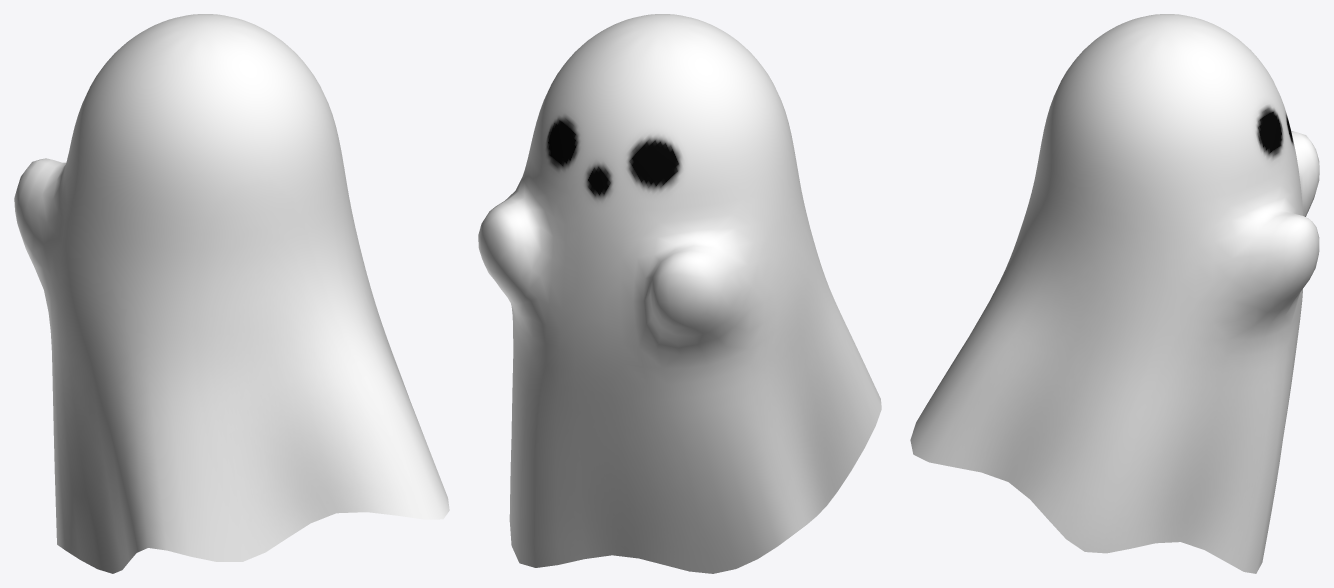
File: ghost1.fbx
The picture shows the model from 3 angles, left to right: view 1: azimuth 30°, elevation 25°; view 2: azimuth 150°, elevation 25°; view 3: azimuth 270°, elevation 25°; orthographic projection. The views are drawn at different scales.
Parts seen in each view (by area): view 1: ghost1; view 2: ghost1; view 3: ghost1.
Part boxes in pixels (<box>): ghost1: <box>14,14,449,573</box>; ghost1: <box>478,14,881,573</box>; ghost1: <box>910,14,1319,573</box>.
Bounding box in the file's own units: 141 × 225 × 165.
